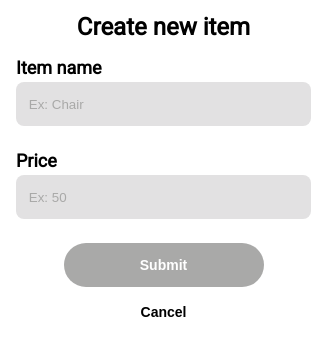
it: should show error message if price is less than 1
The image size is (328, 352).
In the number field labelled "Price": (164,197) top-left (16, 175), bottom-right (311, 219), type "-1"
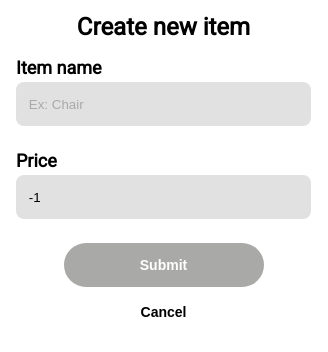
Leave the number field labelled "Price", box top-left (16, 175), bottom-right (311, 219)
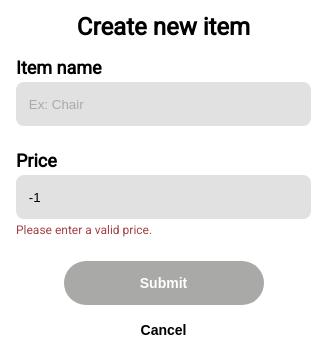
Expected: the text "Please enter a valid price." is shown, top-left (16, 223), bottom-right (152, 237)
